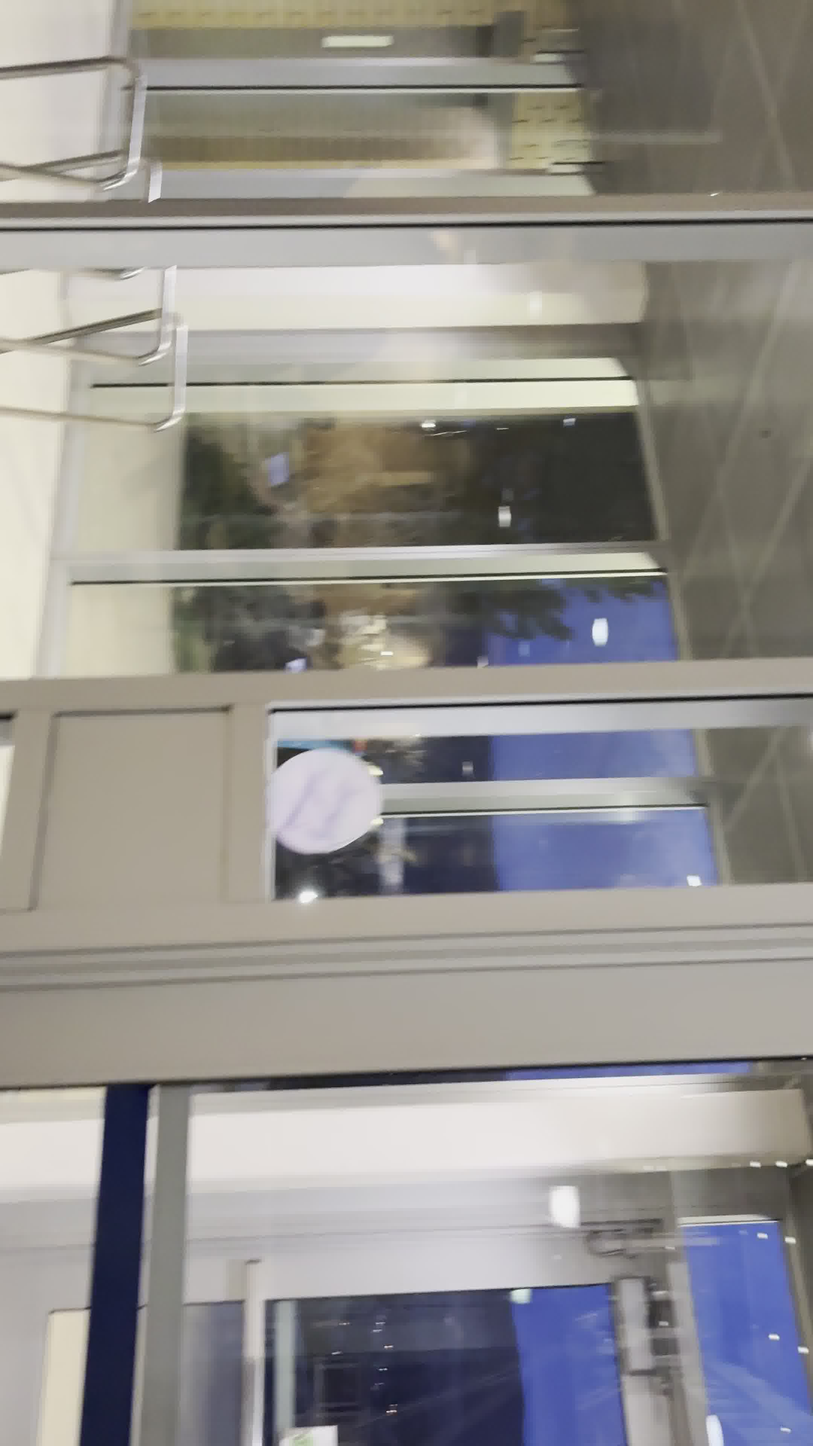Target: (264, 746, 384, 855)
